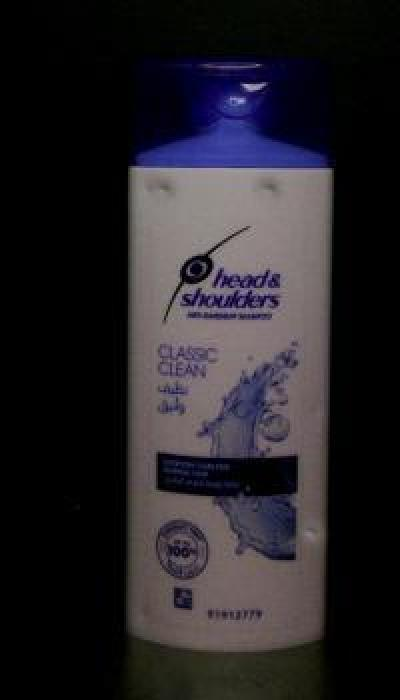dent_unacc: (133, 170, 193, 206), (243, 177, 301, 207), (302, 508, 324, 556)
